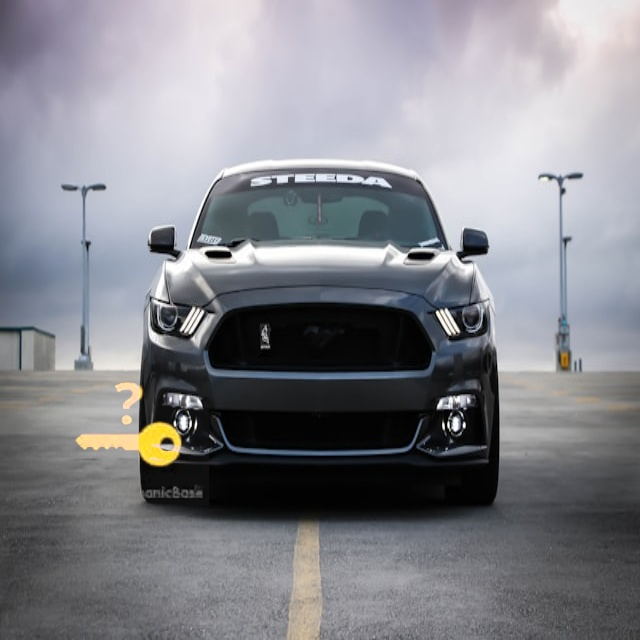symbol: (46, 343, 209, 506)
